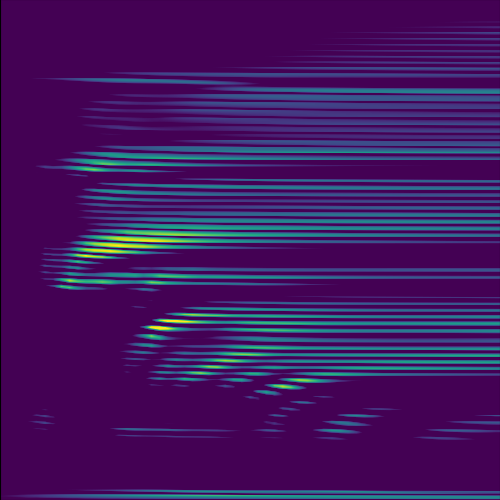semblance: (61, 216, 223, 264), (69, 141, 201, 176), (189, 342, 266, 385), (144, 297, 227, 335), (272, 374, 319, 392)
